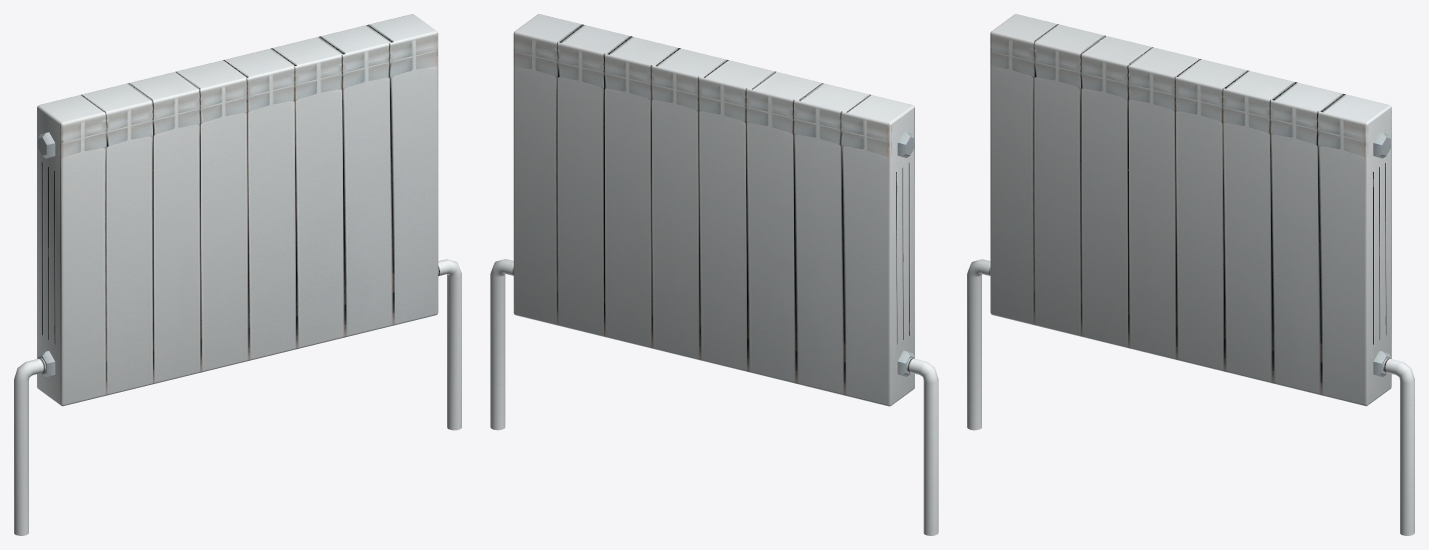
Rendered from Radiator01.FBX.
3 views of the same model, side by side, from view 1: azimuth 30°, elevation 25°; view 2: azimuth 150°, elevation 25°; view 3: azimuth 330°, elevation 25° (orthographic).
Visible parts, largest first — view 1: Radiator01; view 2: Radiator01; view 3: Radiator01.
Part boxes in pixels (left/top/right/bottom): Radiator01: left=14, top=14, right=461, bottom=535; Radiator01: left=490, top=14, right=938, bottom=535; Radiator01: left=967, top=14, right=1414, bottom=535.
Size of the model in its own units: 23.65 by 20.86 by 2.35.
